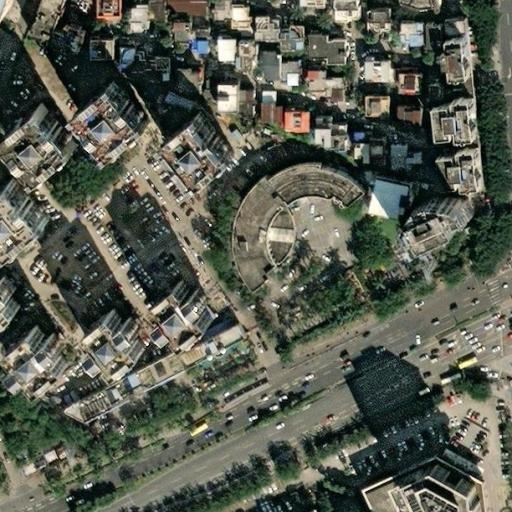building: (237, 172, 371, 300), (354, 453, 476, 512), (147, 325, 238, 391), (162, 115, 238, 190), (67, 80, 141, 155), (7, 107, 80, 183), (390, 459, 476, 512), (142, 277, 208, 343), (80, 305, 145, 371), (447, 227, 512, 284), (0, 336, 52, 390), (68, 389, 121, 436), (109, 371, 159, 414), (449, 110, 492, 153), (455, 160, 497, 203), (379, 187, 420, 229), (454, 138, 493, 176), (0, 268, 24, 324), (50, 34, 93, 60), (463, 49, 487, 93), (334, 1, 362, 28), (279, 26, 305, 54), (143, 55, 167, 85), (118, 50, 143, 76), (254, 19, 279, 45), (404, 25, 428, 52), (330, 126, 351, 156), (229, 8, 250, 38), (221, 85, 240, 118), (368, 13, 392, 39), (167, 0, 206, 16), (356, 62, 382, 85), (155, 94, 185, 113), (176, 72, 198, 97), (284, 116, 310, 137), (400, 112, 426, 133), (238, 47, 259, 73), (392, 250, 416, 272), (466, 89, 488, 113), (84, 43, 110, 63), (396, 78, 422, 98), (167, 22, 187, 47), (406, 0, 444, 13), (324, 82, 345, 105), (217, 42, 238, 65), (433, 32, 452, 57), (93, 1, 118, 20), (364, 102, 389, 121), (127, 8, 145, 34), (308, 37, 326, 62), (392, 148, 408, 176), (209, 2, 229, 24), (325, 47, 345, 69), (265, 57, 281, 84), (449, 25, 472, 42), (144, 1, 161, 24), (280, 65, 297, 87), (408, 157, 422, 182), (359, 150, 376, 170), (376, 144, 389, 170), (185, 31, 206, 44), (254, 107, 269, 125), (318, 134, 333, 150), (301, 0, 324, 10), (254, 93, 269, 107), (314, 121, 330, 134), (356, 137, 372, 150), (434, 92, 444, 110), (395, 70, 414, 79), (194, 44, 206, 56), (305, 74, 319, 84), (269, 110, 278, 125), (433, 148, 446, 154), (359, 93, 371, 99), (92, 33, 100, 41), (211, 32, 223, 37), (420, 149, 428, 156), (216, 39, 229, 43), (187, 44, 194, 51)
